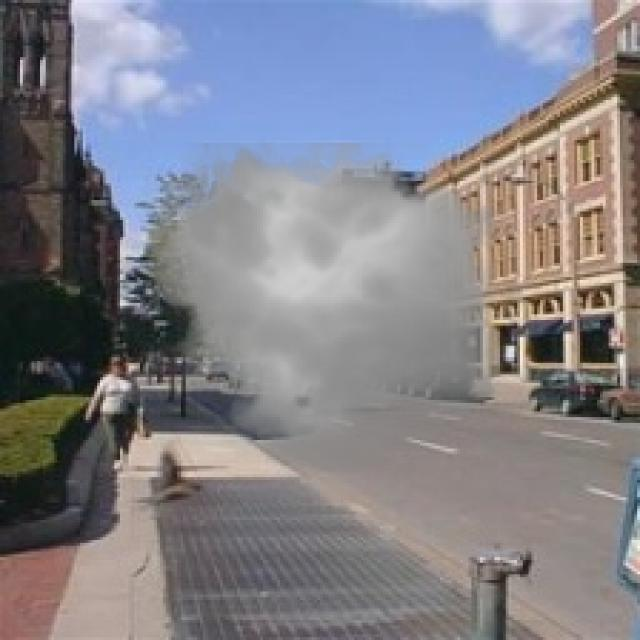Smoke: (132, 126, 514, 486)
